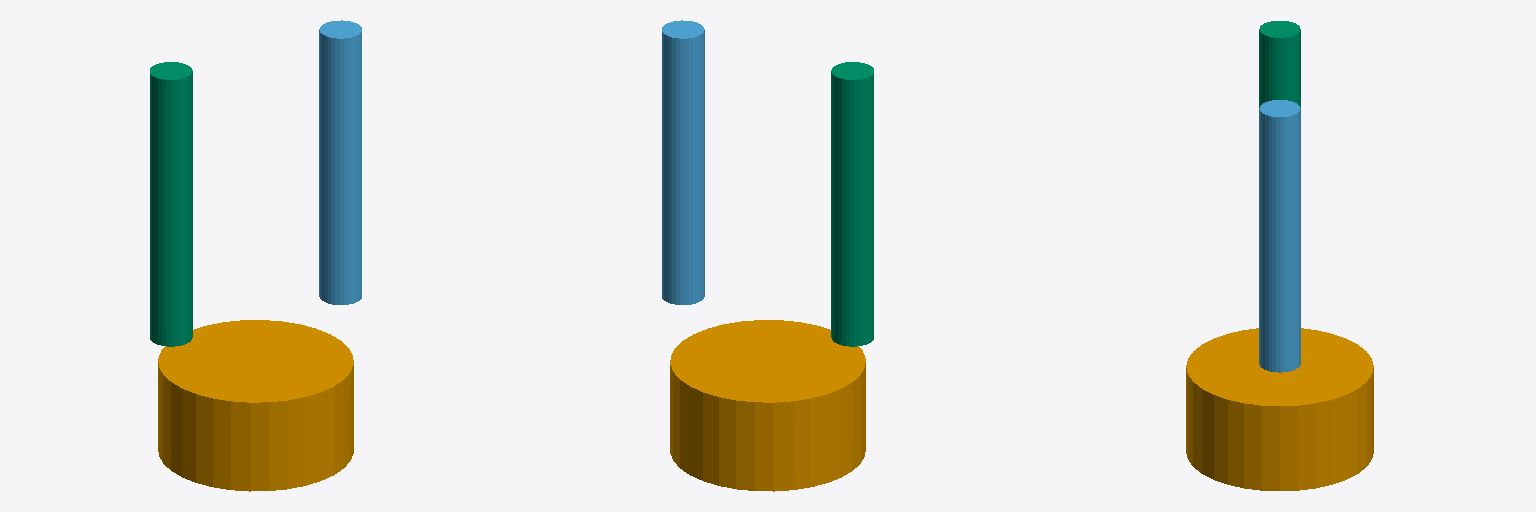
URDF robot description (Surgical_Micro-Gripper):
<?xml version="1.0"?>
<robot name="Surgical_Micro-Gripper">

    <link name="palm_link">
        <visual>
            <geometry>
                <cylinder radius="0.0100" length="0.0100"/>
            </geometry>
        </visual>
        <collision>
            <geometry>
                <cylinder radius="0.0100" length="0.0100"/>
            </geometry>
        </collision>
    </link>

    
    <link name="finger_0_link">
        <visual>
            <geometry>
                <cylinder radius="0.0022" length="0.0300"/>
            </geometry>
            <origin xyz="0 0 0.0150"/>
        </visual>
        <collision>
            <geometry>
                <cylinder radius="0.0022" length="0.0300"/>
            </geometry>
            <origin xyz="0 0 0.0150"/>
        </collision>
    </link>

    <joint name="finger_0_joint" type="revolute">
        <parent link="palm_link"/>
        <child link="finger_0_link"/>
        <origin xyz="0.0100 0.0000 0.0100" rpy="0 0 0.0000"/>
        <axis xyz="0 1 0"/>
        <limit lower="-1.57" upper="1.57" effort="10" velocity="1"/>
    </joint>

    <link name="finger_1_link">
        <visual>
            <geometry>
                <cylinder radius="0.0022" length="0.0300"/>
            </geometry>
            <origin xyz="0 0 0.0150"/>
        </visual>
        <collision>
            <geometry>
                <cylinder radius="0.0022" length="0.0300"/>
            </geometry>
            <origin xyz="0 0 0.0150"/>
        </collision>
    </link>

    <joint name="finger_1_joint" type="revolute">
        <parent link="palm_link"/>
        <child link="finger_1_link"/>
        <origin xyz="-0.0100 0.0000 0.0100" rpy="0 0 3.1416"/>
        <axis xyz="0 1 0"/>
        <limit lower="-1.57" upper="1.57" effort="10" velocity="1"/>
    </joint>

</robot>

--- Facts derived from the render (not from the file) ---
Views: 3 orthographic renders of the robot side by side, from view 1: azimuth 30°, elevation 25°; view 2: azimuth 150°, elevation 25°; view 3: azimuth 270°, elevation 25°.
Model Surgical_Micro-Gripper with 3 links and 2 joints (2 revolute), rooted at palm_link, posed all joints at 0.
Links seen in each view (by area): view 1: palm_link, finger_1_link, finger_0_link; view 2: palm_link, finger_1_link, finger_0_link; view 3: palm_link, finger_0_link, finger_1_link.
Link boxes in pixels (<box>): palm_link: <box>158,320,353,491</box>; finger_1_link: <box>150,62,192,346</box>; finger_0_link: <box>319,20,361,304</box>; palm_link: <box>670,320,865,491</box>; finger_1_link: <box>831,62,873,346</box>; finger_0_link: <box>662,20,704,304</box>; palm_link: <box>1186,328,1373,490</box>; finger_0_link: <box>1259,100,1300,372</box>; finger_1_link: <box>1259,21,1300,107</box>.
Size in the robot's own frame: 0.0244 by 0.02 by 0.045 metres.
Geometry: primitives only (box / cylinder / sphere), no mesh files.